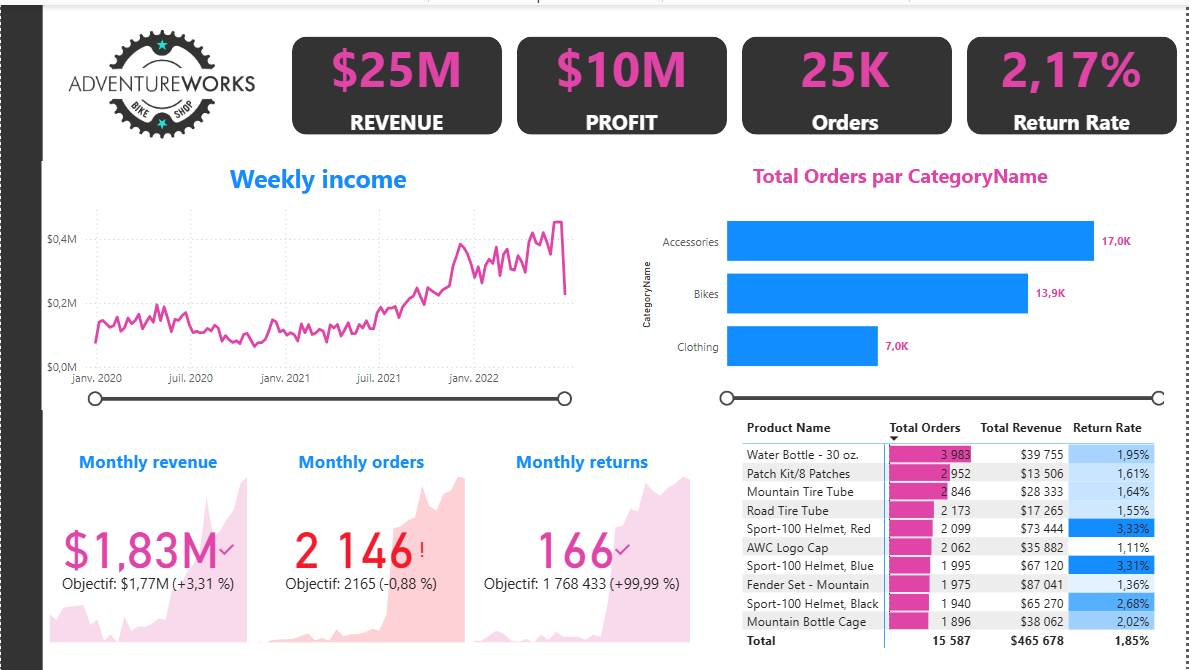

The page's visual inventory and layout, read from the dashboard file:
{"tool":"powerbi","page":{"name":"Exec Dashboard","canvas":[1280,720],"ordinal":0},"visuals":[{"type":"image","title":"AW Logo","box":[45,15,256.7,141.7],"z":0},{"type":"shape","box":[313.3,33.3,226.8,106],"z":0,"group":"g1"},{"type":"group","id":"g1","title":"KPI Backgrounds","box":[313.3,33.3,955,106.7],"z":1000},{"type":"shape","box":[556,33.3,226.8,106],"z":1000,"group":"g1"},{"type":"shape","title":"Left Nav Background","box":[0,0,45,720],"z":2000},{"type":"shape","box":[798.8,33.3,226.8,106],"z":2000,"group":"g1"},{"type":"shape","box":[1041.5,33.3,226.8,106],"z":3000,"group":"g1"},{"type":"lineChart","title":"Weekly income","fields":{"Category":["Calendar Lookup.Start of Week"],"Y":["Measure Table.Total Revenue"]},"box":[43.7,168.8,596.8,267.8],"z":4000},{"type":"cardVisual","fields":{"Data":["Measure Table.Total Revenue"]},"box":[325,31.7,203.3,108.3],"z":5000},{"type":"clusteredBarChart","fields":{"Category":["Product Categories Lookup.CategoryName"],"Y":["Measure Table.Total Orders"]},"box":[711.8,155.7,519.6,227.1],"z":6000},{"type":"cardVisual","fields":{"Data":["Measure Table.Total Profit"]},"box":[568.3,31.7,203.3,108.3],"z":7000},{"type":"cardVisual","fields":{"Data":["Measure Table.Total Orders"]},"box":[810,31.7,203.3,108.3],"z":8000},{"type":"cardVisual","fields":{"Data":["Measure Table.Return Rate"]},"box":[1053.3,31.7,203.3,108.3],"z":9000},{"type":"kpi","title":"Monthly revenue","fields":{"Goal":["Measure Table.Previous Month Revenue"],"Indicator":["Measure Table.Total Revenue"],"TrendLine":["Calendar Lookup.Date Hierarchy.Start of Month"]},"box":[47.7,478.6,223.7,213.8],"z":10000},{"type":"kpi","title":"Monthly orders","fields":{"Goal":["Measure Table.Previous Month Orders"],"Indicator":["Measure Table.Total Orders"],"TrendLine":["Calendar Lookup.Date Hierarchy.Start of Month"]},"box":[271.4,478.6,233.5,213.8],"z":11000},{"type":"kpi","title":"Monthly returns","fields":{"Goal":["Measure Table.Previous Month Revenue"],"Indicator":["Measure Table.Total Returns"],"TrendLine":["Calendar Lookup.Date Hierarchy.Start of Month"]},"box":[504.9,478.6,243.4,213.8],"z":12000},{"type":"pivotTable","fields":{"Rows":["Product Lookup.ProductName","Product Lookup.ProductName"],"Values":["Measure Table.Total Orders","Measure Table.Total Revenue","Measure Table.Return Rate"]},"box":[790.4,382.8,460,279.5],"z":13000},{"type":"cardVisual","fields":{"Data":["Min(Product Subcategories Lookup.SubcategoryName)"]},"box":[823.8,624.4,316.3,96.7],"z":14000}]}

Visuals, with their boxes in screenshot pixels (x1, y1, x2, y2), scaled from the page's 1280x720 canvas onto the 1189x670 screenshot:
"AW Logo" image: (left=42, top=14, right=280, bottom=146)
shape: (left=291, top=31, right=502, bottom=130)
"KPI Backgrounds" group: (left=291, top=31, right=1178, bottom=130)
shape: (left=516, top=31, right=727, bottom=130)
"Left Nav Background" shape: (left=0, top=0, right=42, bottom=669)
shape: (left=742, top=31, right=953, bottom=130)
shape: (left=967, top=31, right=1178, bottom=130)
"Weekly income" lineChart: (left=41, top=157, right=595, bottom=406)
cardVisual - Measure Table.Total Revenue: (left=302, top=29, right=491, bottom=130)
clusteredBarChart - Product Categories Lookup.CategoryName x Measure Table.Total Orders: (left=661, top=145, right=1144, bottom=356)
cardVisual - Measure Table.Total Profit: (left=528, top=29, right=717, bottom=130)
cardVisual - Measure Table.Total Orders: (left=752, top=29, right=941, bottom=130)
cardVisual - Measure Table.Return Rate: (left=978, top=29, right=1167, bottom=130)
"Monthly revenue" kpi: (left=44, top=445, right=252, bottom=644)
"Monthly orders" kpi: (left=252, top=445, right=469, bottom=644)
"Monthly returns" kpi: (left=469, top=445, right=695, bottom=644)
pivotTable - Product Lookup.ProductName x Product Lookup.ProductName: (left=734, top=356, right=1162, bottom=616)
cardVisual - Min(Product Subcategories Lookup.SubcategoryName): (left=765, top=581, right=1059, bottom=669)
